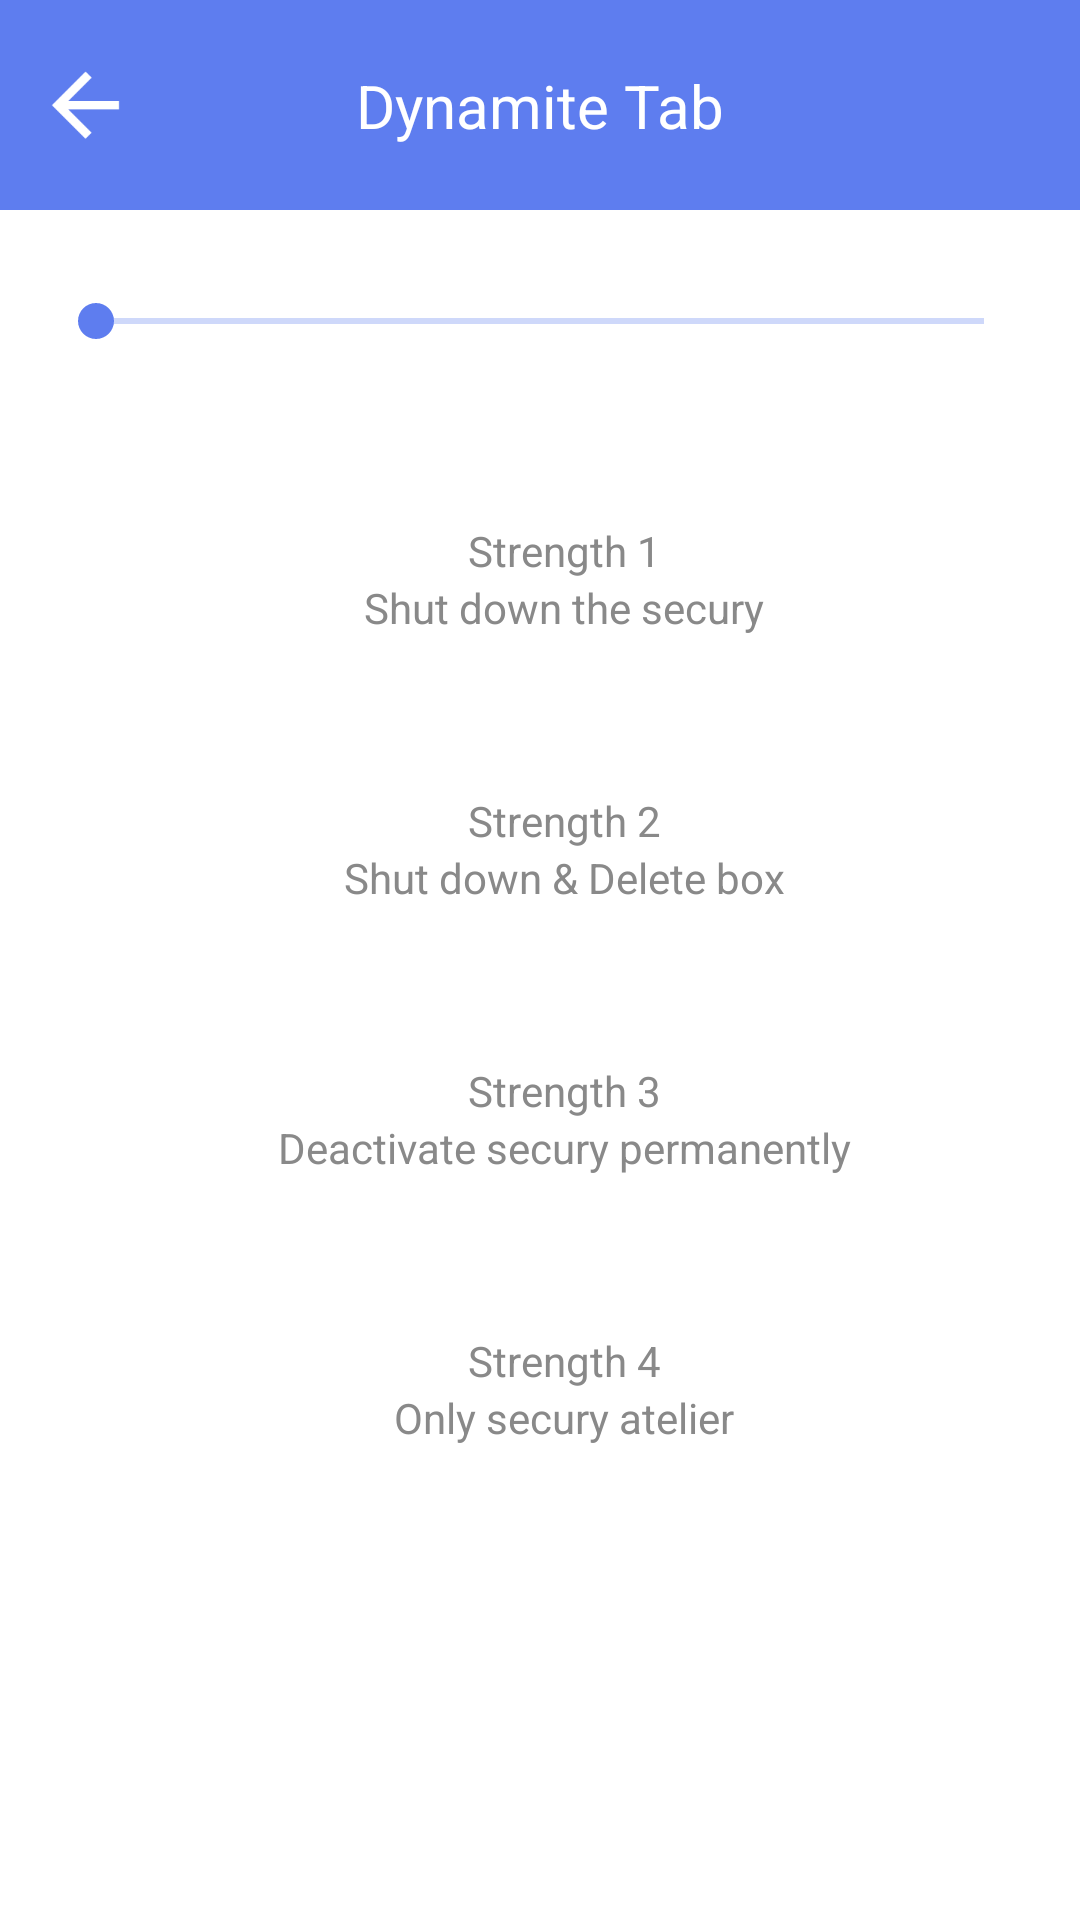

Named icons in this screenshot (1080x1920) and their centers, (x=x, y=y):
global back: (x=85, y=105)
